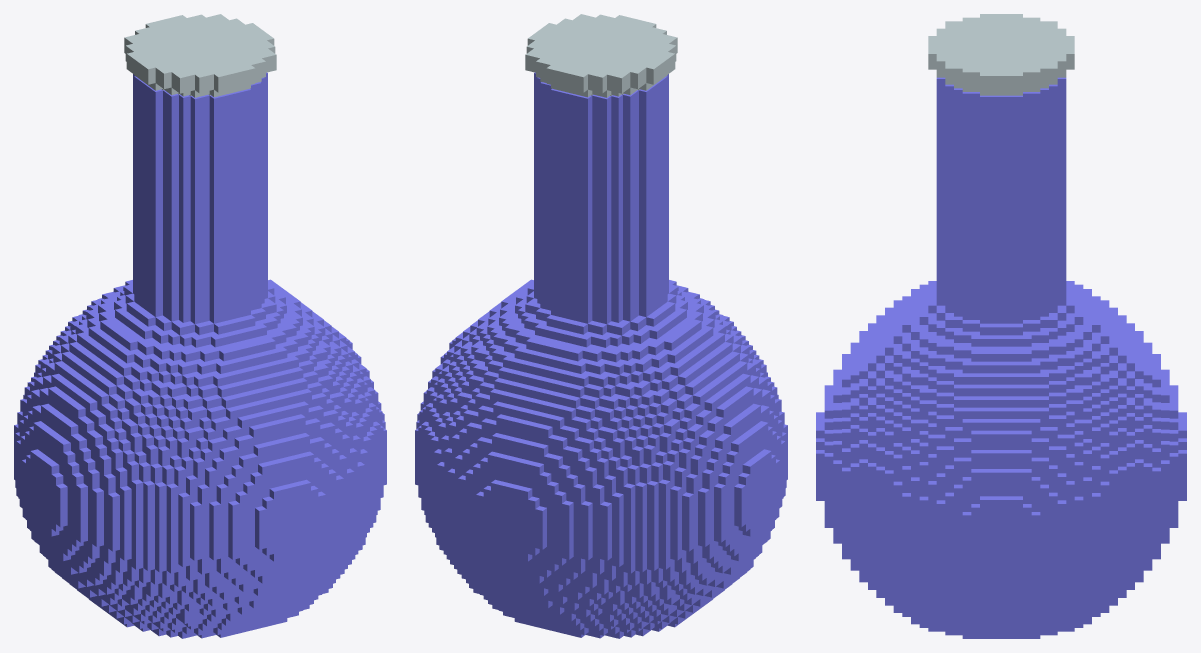
Rendered from Flask6-3-1.fbx.
3 views of the same model, side by side, from view 1: azimuth 30°, elevation 25°; view 2: azimuth 150°, elevation 25°; view 3: azimuth 270°, elevation 25° (orthographic).
Parts seen in each view (by area): view 1: Flask6-3-1.001, Flask6-3-1; view 2: Flask6-3-1.001, Flask6-3-1; view 3: Flask6-3-1.001, Flask6-3-1.
Part boxes in pixels (box(x1,y1,x2,y2)): Flask6-3-1.001: box(14, 72, 386, 638); Flask6-3-1: box(124, 14, 276, 97); Flask6-3-1.001: box(415, 72, 787, 638); Flask6-3-1: box(525, 14, 677, 97); Flask6-3-1.001: box(816, 77, 1186, 638); Flask6-3-1: box(928, 14, 1074, 95).
Bounding box in the file's own units: 4.3 × 7.02 × 4.3.
